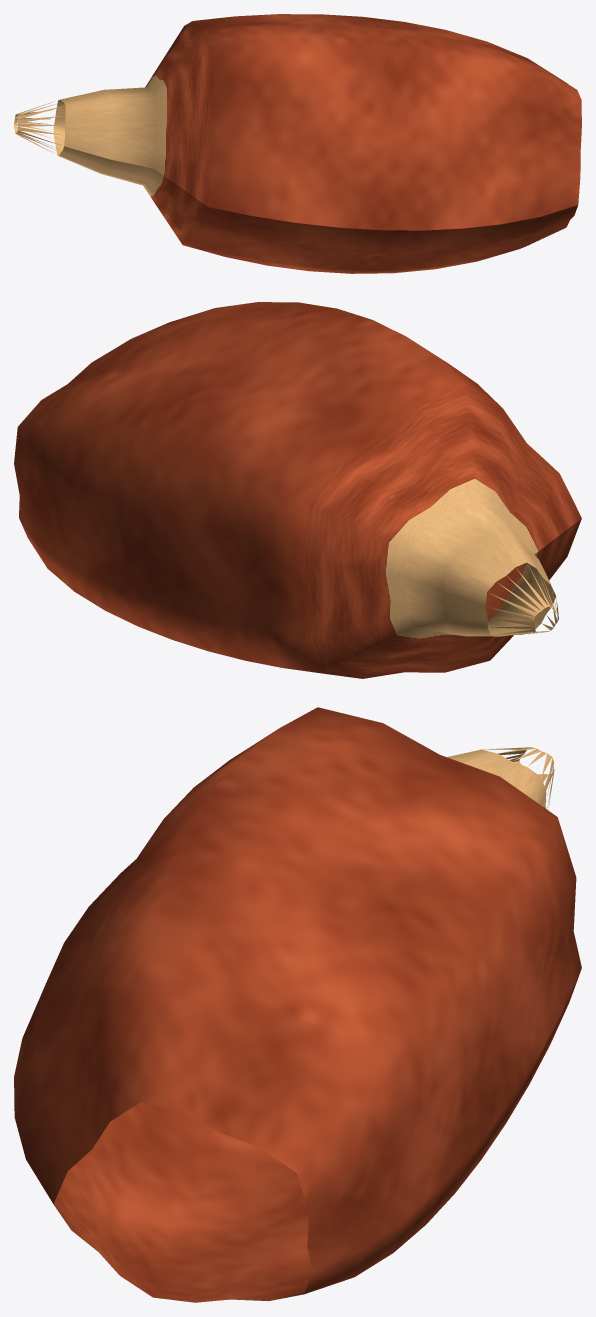
The model's file is 02_Meat_Lamb_Shank_Main.obj.
3 views of the same model, one above another, from view 1: azimuth 30°, elevation 25°; view 2: azimuth 150°, elevation 25°; view 3: azimuth 270°, elevation 25° (orthographic). The views are drawn at different scales.
Visible parts, largest first — view 1: 02_Meat_Lamb_Shank_Main; view 2: 02_Meat_Lamb_Shank_Main; view 3: 02_Meat_Lamb_Shank_Main.
Boxes of the visible parts, bbox=[...] form: 02_Meat_Lamb_Shank_Main: bbox=[14, 14, 581, 273]; 02_Meat_Lamb_Shank_Main: bbox=[14, 302, 581, 678]; 02_Meat_Lamb_Shank_Main: bbox=[14, 707, 581, 1302].
Size of the model in its own units: 0.0959 by 0.0461 by 0.0612.
Materials: 1 (1 with a texture image).
